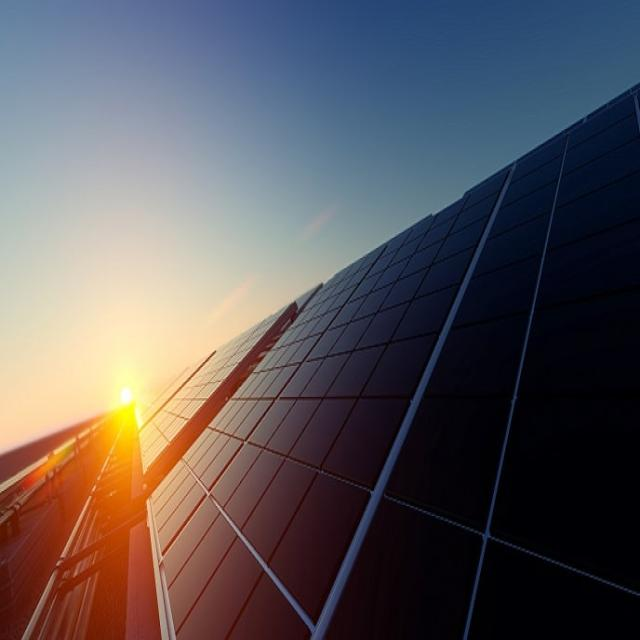clean-solar-panel: (140, 88, 640, 638)
